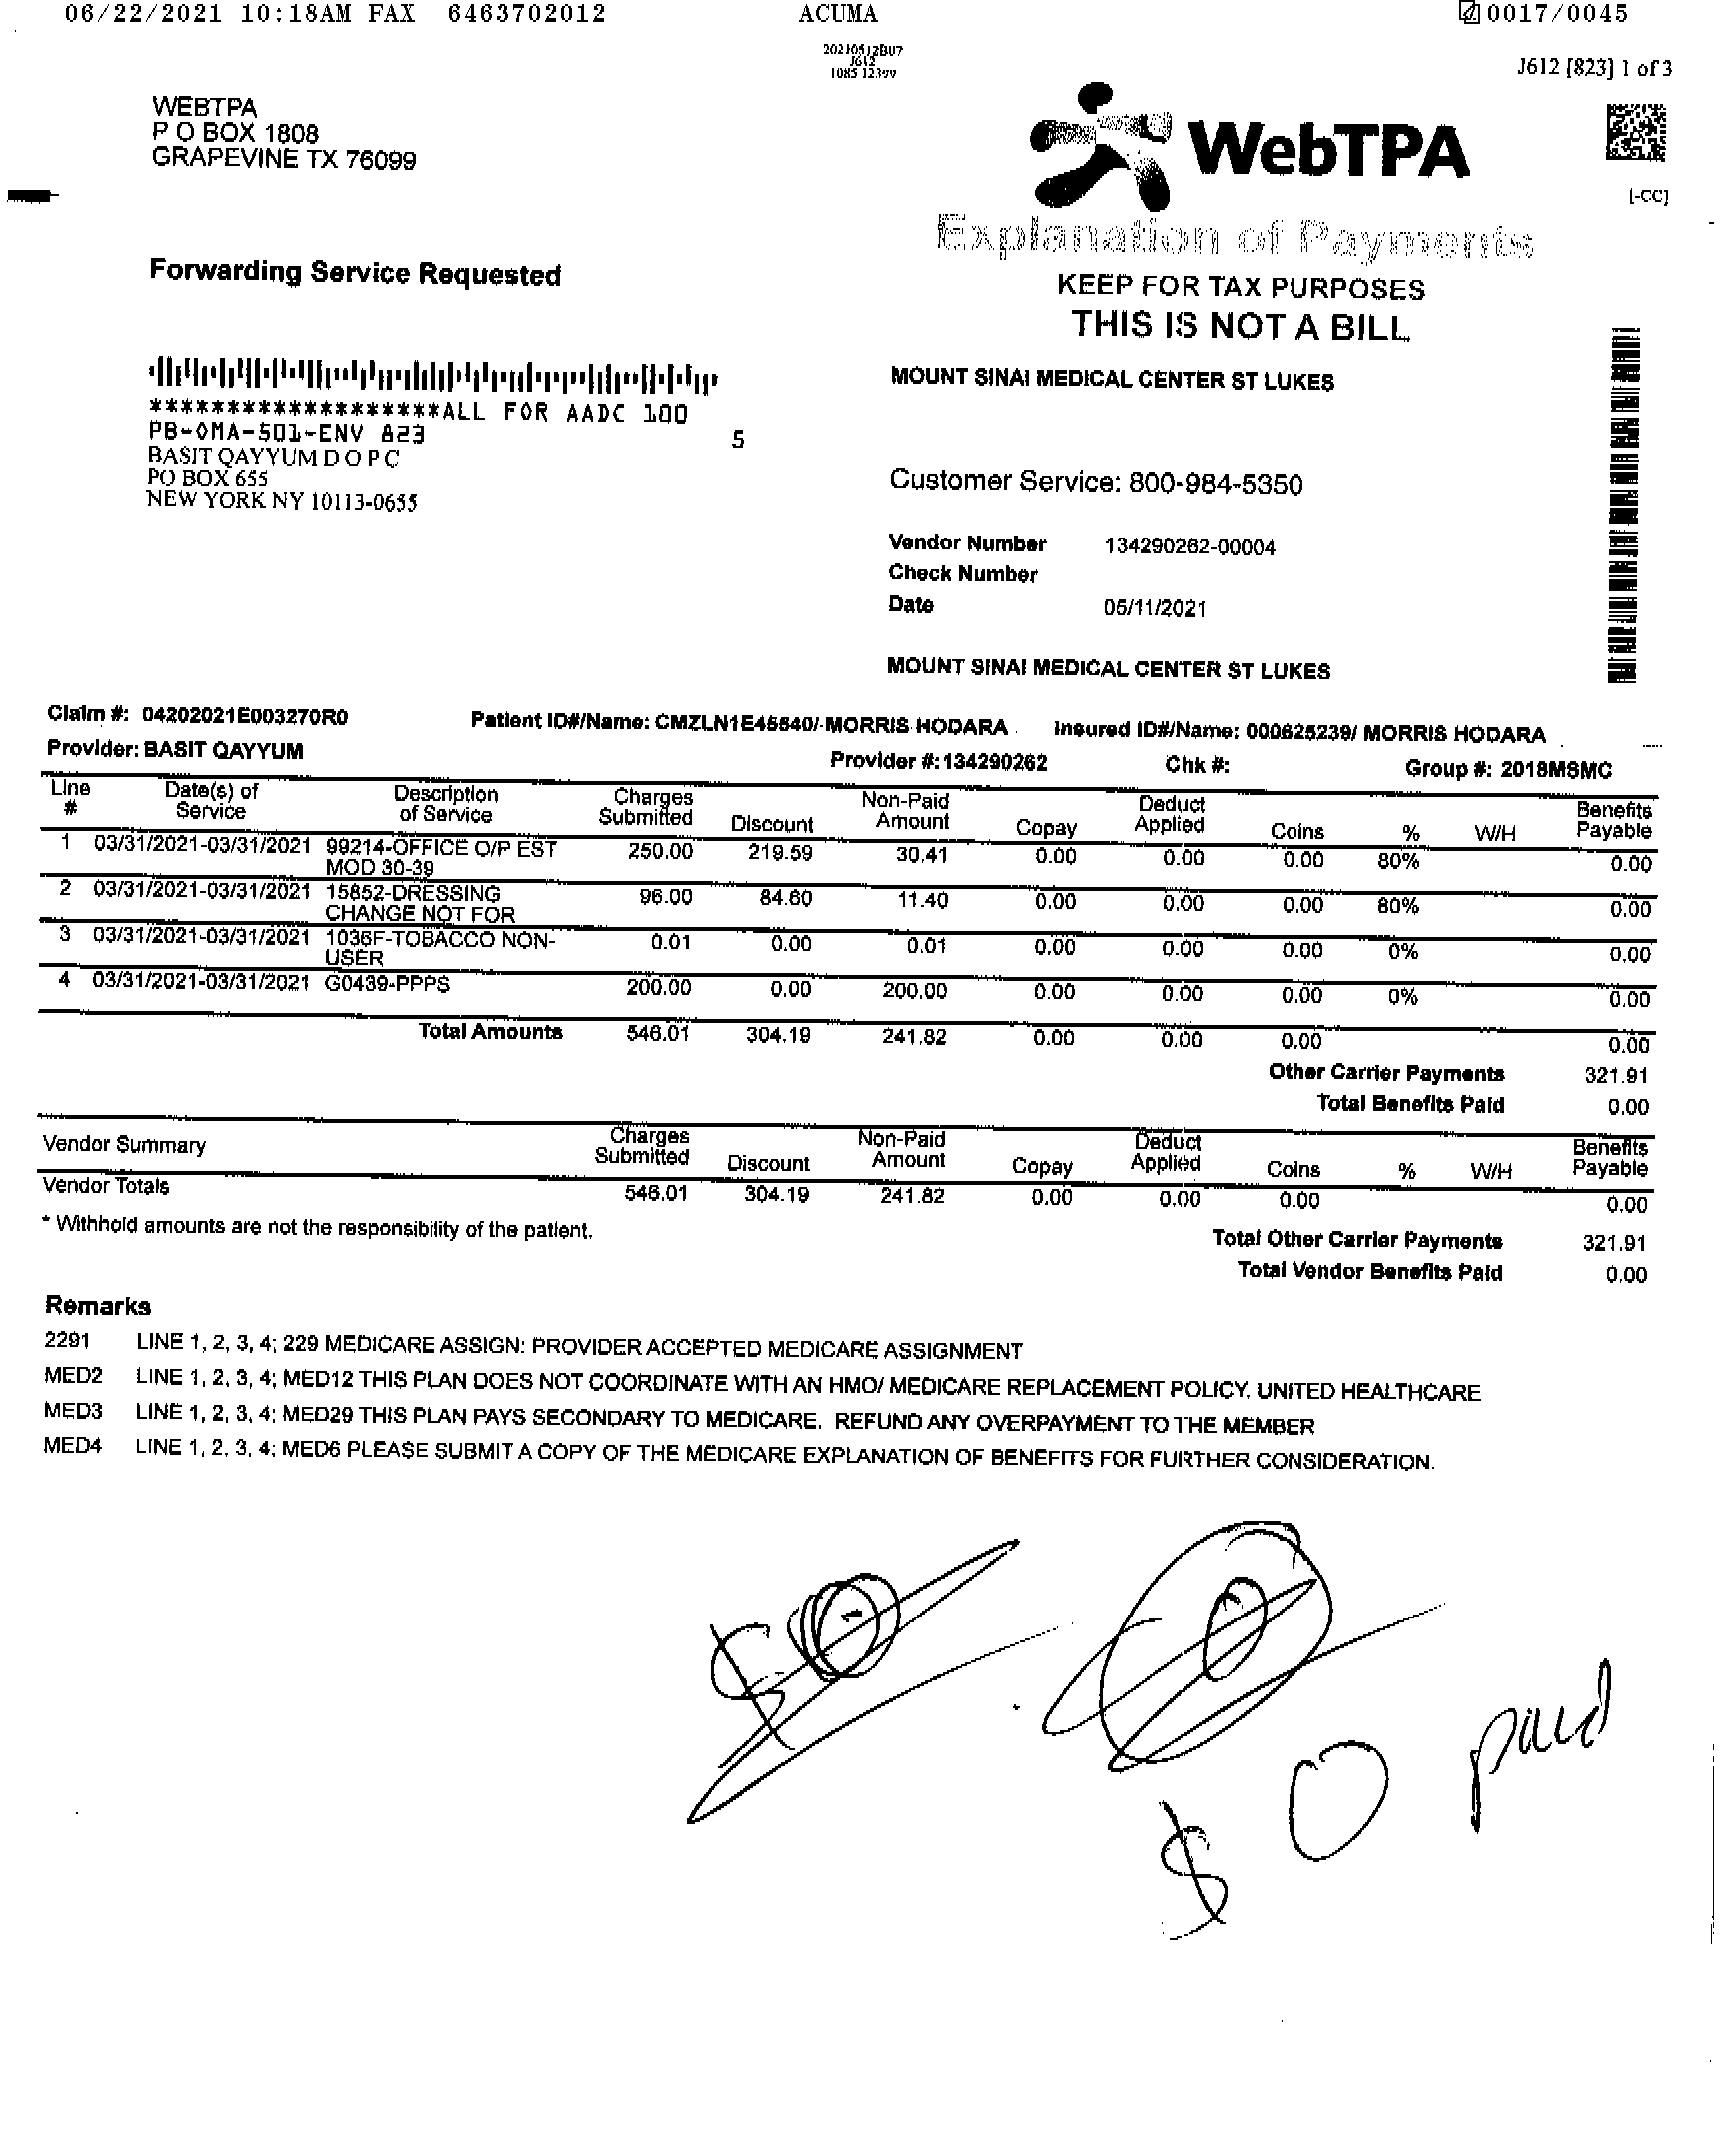data: (867, 435, 1333, 625)
table: (32, 690, 1661, 1057), (41, 1111, 1664, 1221)
